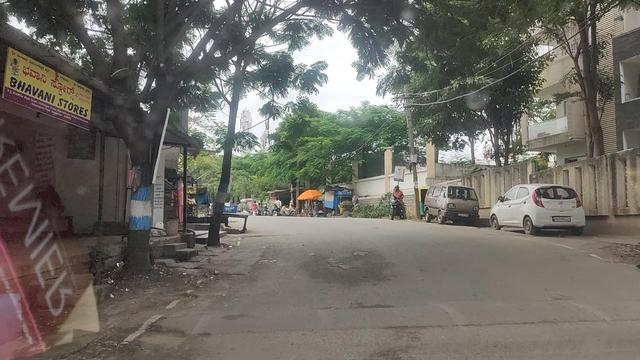RoadDamages: (111, 307, 223, 360), (178, 272, 251, 304), (321, 243, 372, 274)
SpeedBump: (210, 299, 640, 329)
